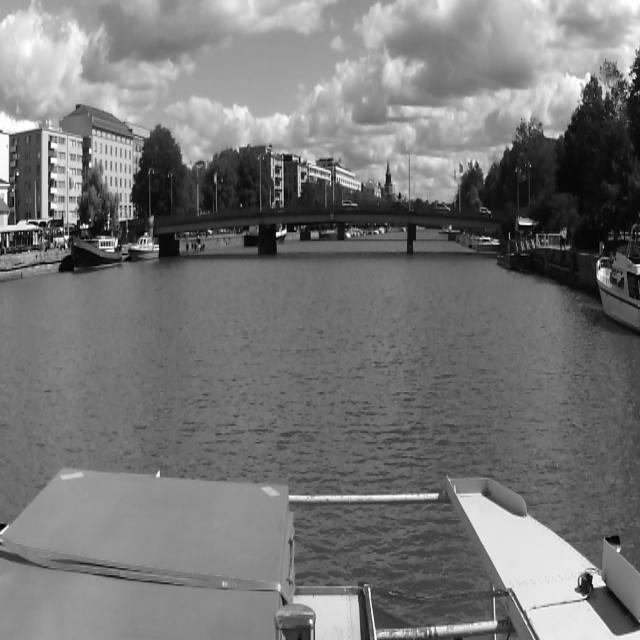ship: (597, 229, 635, 328), (71, 228, 123, 272), (128, 234, 160, 260)
